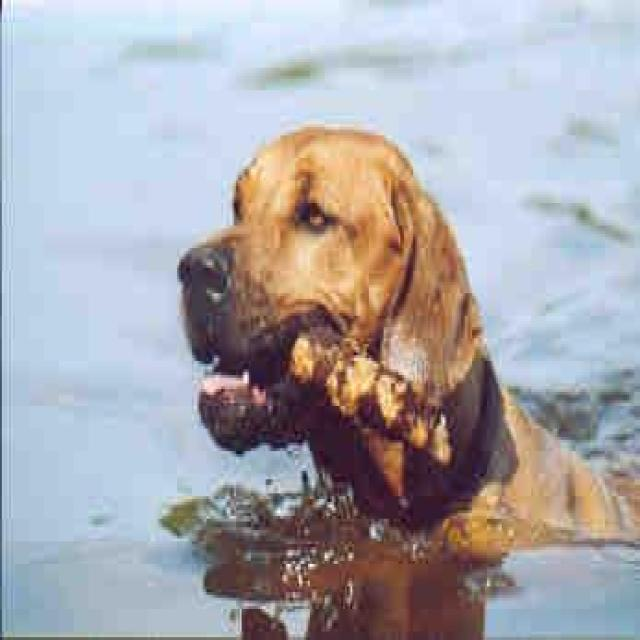rhodesian_ridgeback: (176, 121, 636, 544)
